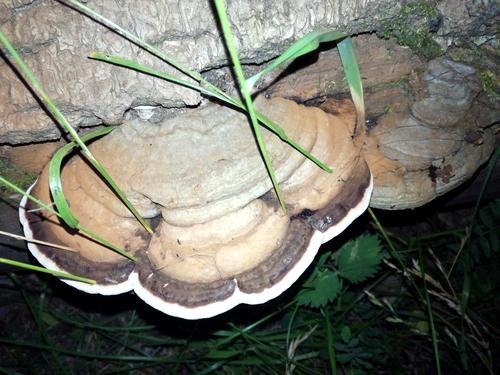Ganoderma - Fruit Body: (19, 96, 373, 320)
